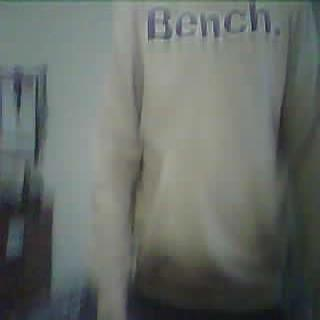Yellow Hoodie: (107, 0, 316, 305)
